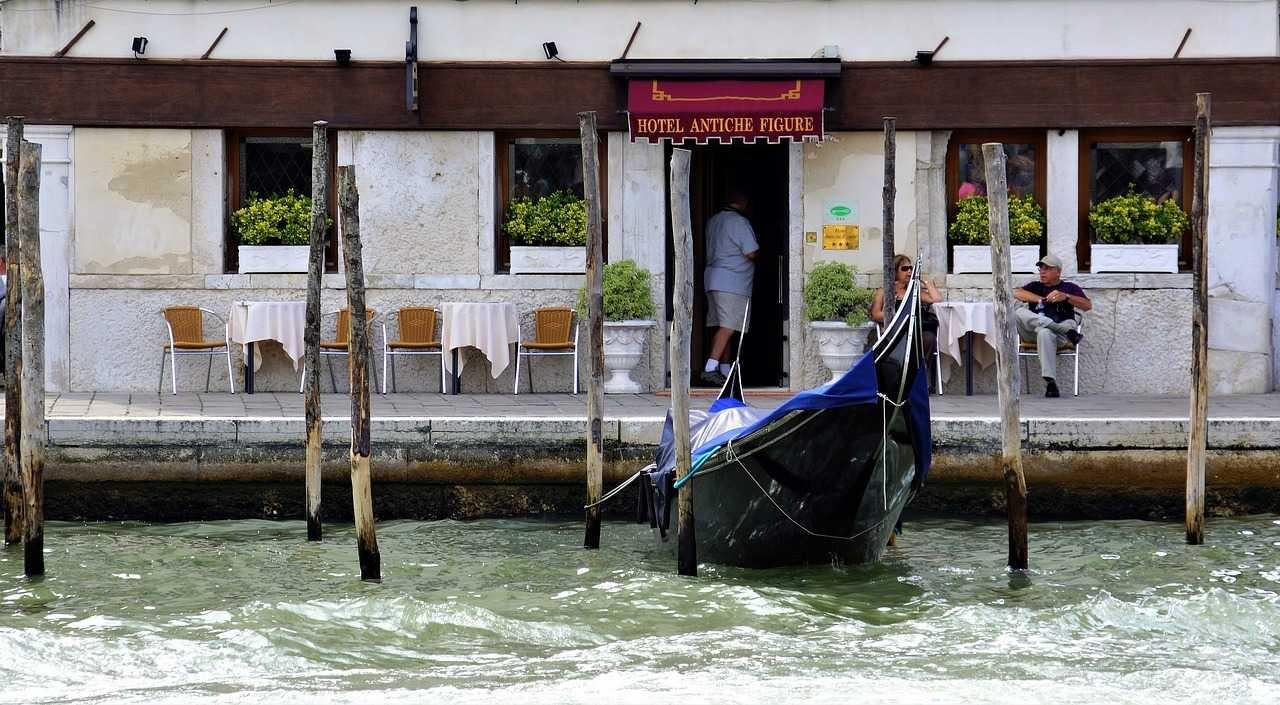kayak: (653, 308, 930, 574)
